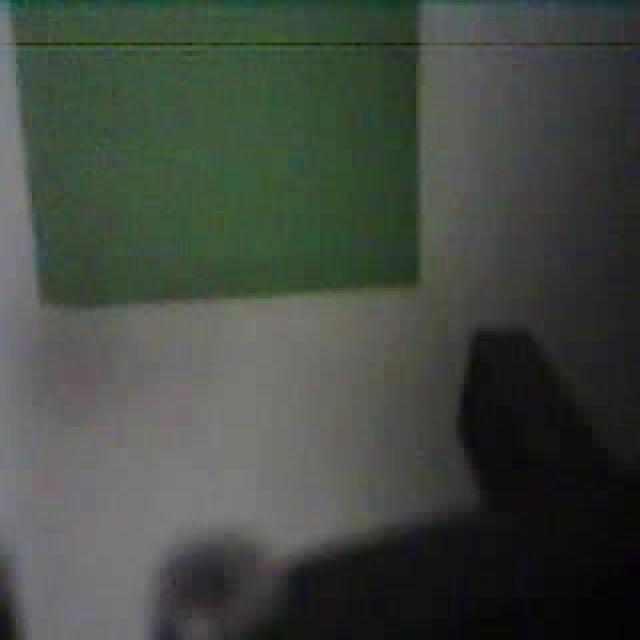green_box: (8, 0, 424, 312)
